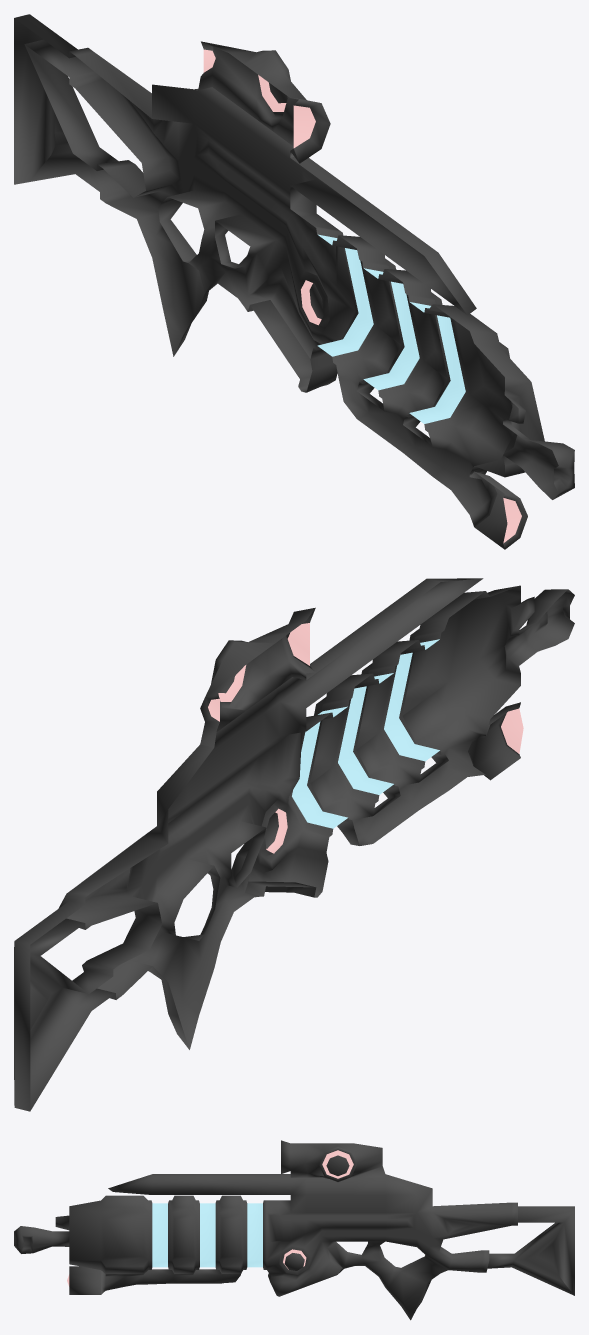
The model's file is carbine_rifle.glb.
3 renders of one model, top to bottom at view 1: azimuth 30°, elevation 25°; view 2: azimuth 150°, elevation 25°; view 3: azimuth 270°, elevation 25°, orthographic. The views are drawn at different scales.
Visible parts, largest first — view 1: SciFi_gun.010; view 2: SciFi_gun.010; view 3: SciFi_gun.010.
Part boxes in pixels (x1=…): SciFi_gun.010: x1=14, y1=14, x2=574, y2=549; SciFi_gun.010: x1=14, y1=578, x2=574, y2=1111; SciFi_gun.010: x1=14, y1=1140, x2=574, y2=1320.
Size of the model in its own units: 0.0576 by 0.3784 by 1.07.
